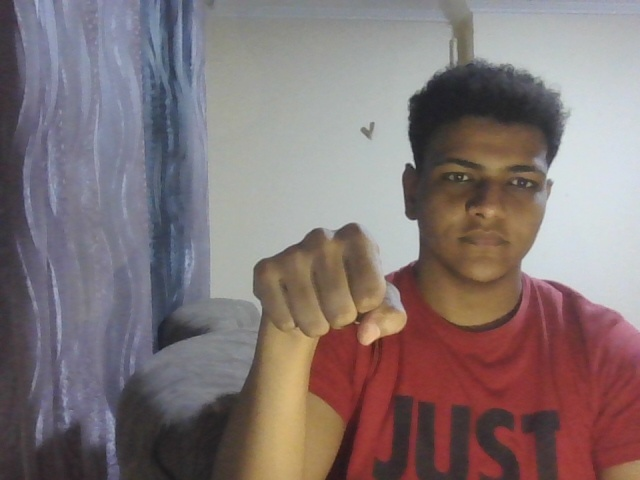yes: (225, 205, 410, 384)
